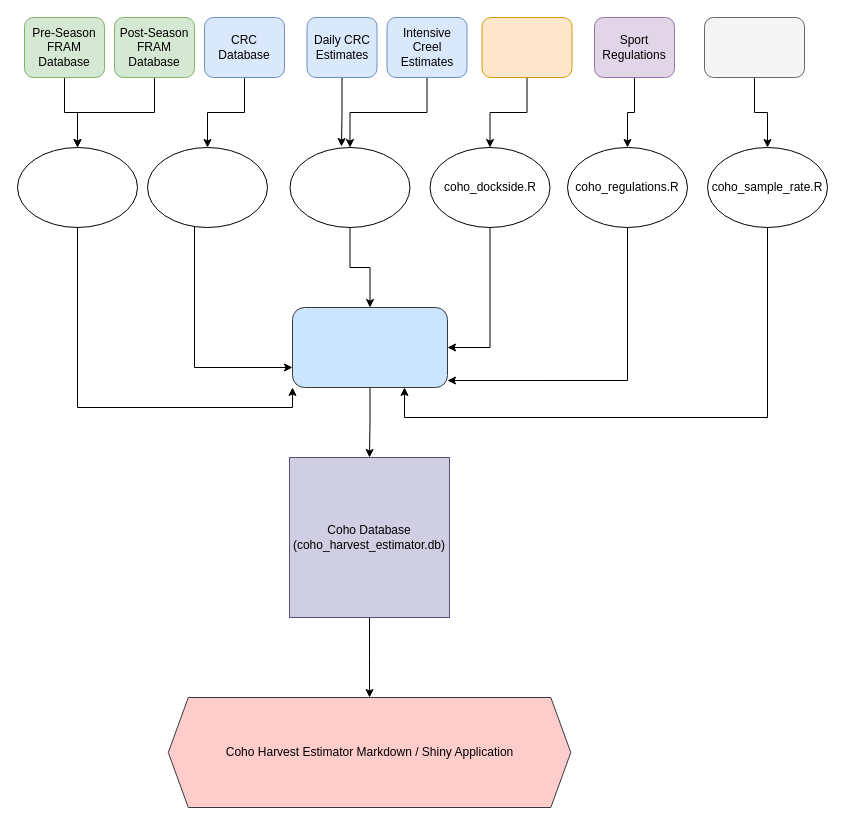
Image size: 845x825. Some labels were removed from this diagram. Each missing label, with the centre of its shape:
"coho_crc.R" goes at (207,187).
"coho_estimates.R CRC Substitutions" goes at (349,187).
"coho_fram.R" goes at (77,187).
"compile_to_database.R" goes at (370,347).
"Dockside Creel" goes at (526,47).
"RMIS Sample / Catch" goes at (754,47).
